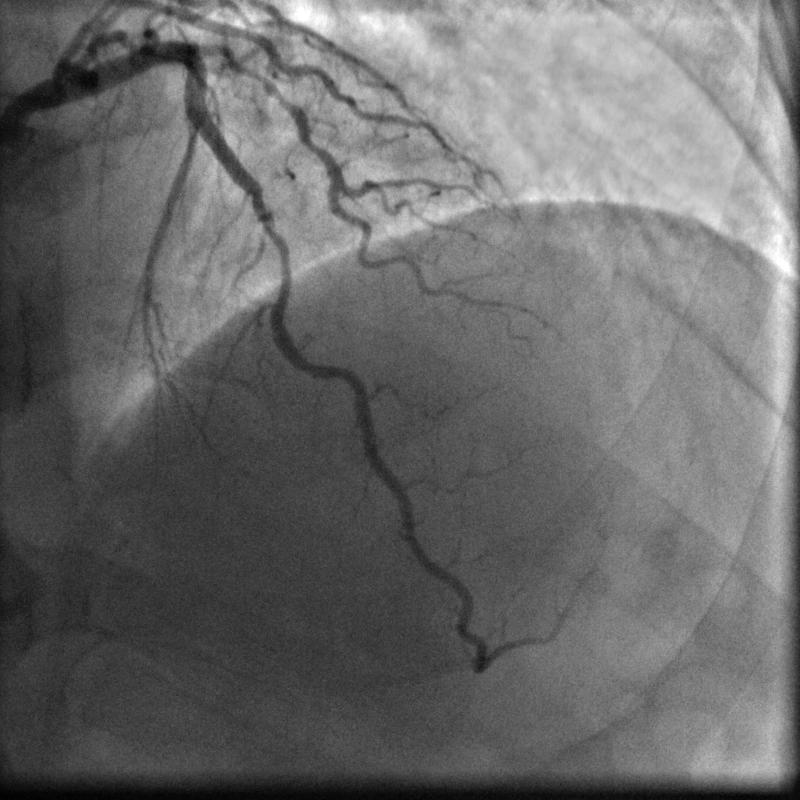Stenosis: (253, 201, 295, 299)
